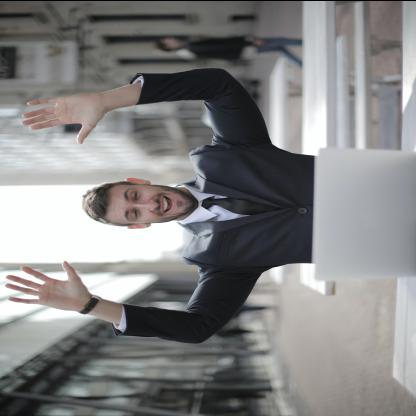Eye: (131, 208, 140, 218), (132, 190, 140, 199)
Mouth: (161, 194, 175, 212)
Nose: (137, 198, 159, 210)
